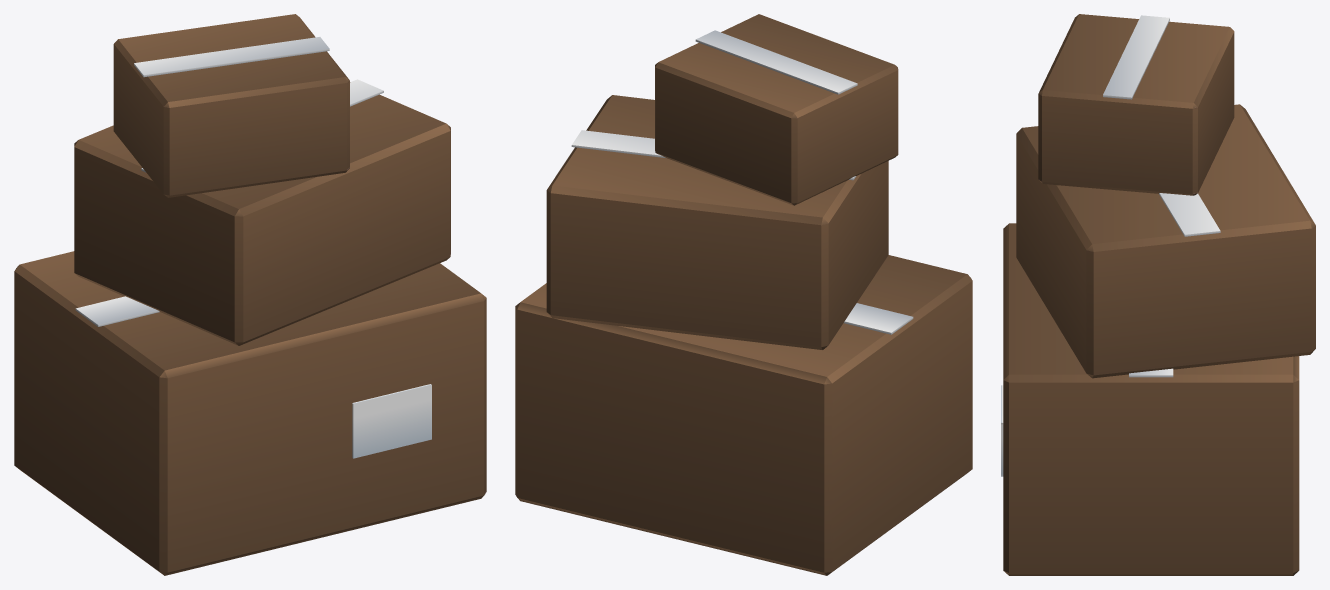
The model's file is ck_cardboard_boxes.fbx.
The picture shows the model from 3 angles, left to right: view 1: azimuth 30°, elevation 25°; view 2: azimuth 150°, elevation 25°; view 3: azimuth 270°, elevation 25°; orthographic projection. The views are drawn at different scales.
Visible parts, largest first — view 1: ck_cardboard_boxes; view 2: ck_cardboard_boxes; view 3: ck_cardboard_boxes.
Boxes of the visible parts, x1,y1,x2,y2 form: ck_cardboard_boxes: [14, 14, 486, 575]; ck_cardboard_boxes: [515, 14, 972, 575]; ck_cardboard_boxes: [1001, 14, 1315, 575].
Bounding box in the file's own units: 167 × 210 × 139.
